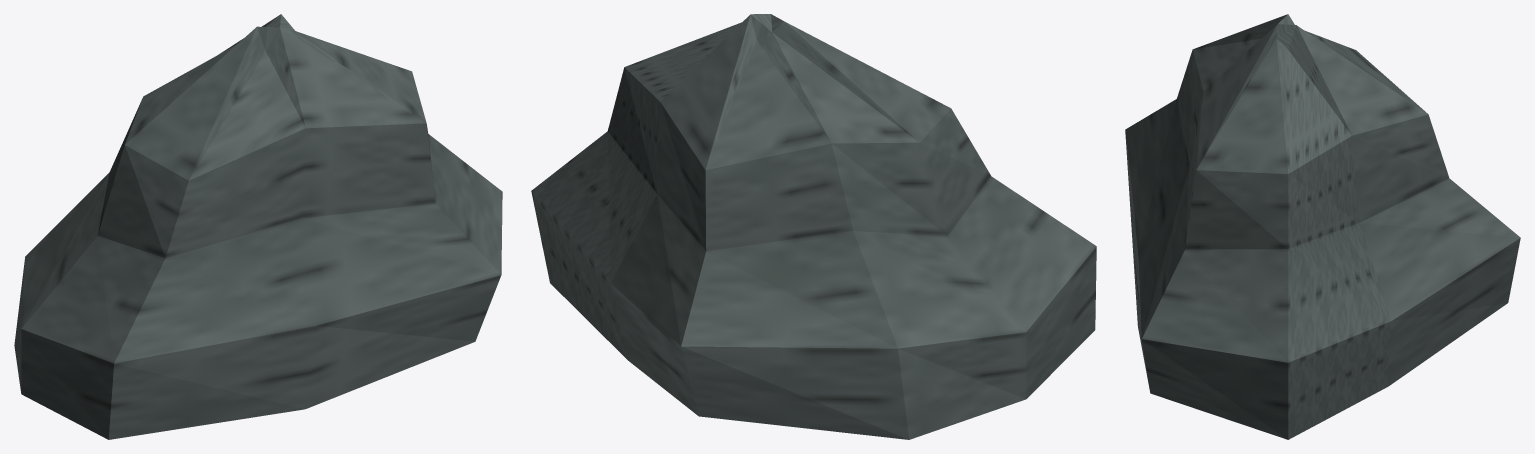
File: rock-strata-v121-lod1.glb
3 renders of one model, left to right at view 1: azimuth 30°, elevation 25°; view 2: azimuth 150°, elevation 25°; view 3: azimuth 270°, elevation 25°, orthographic. The views are drawn at different scales.
Bounding box in the file's own units: 0.7693 × 0.496 × 0.5413.
1 material, 1 textured.
